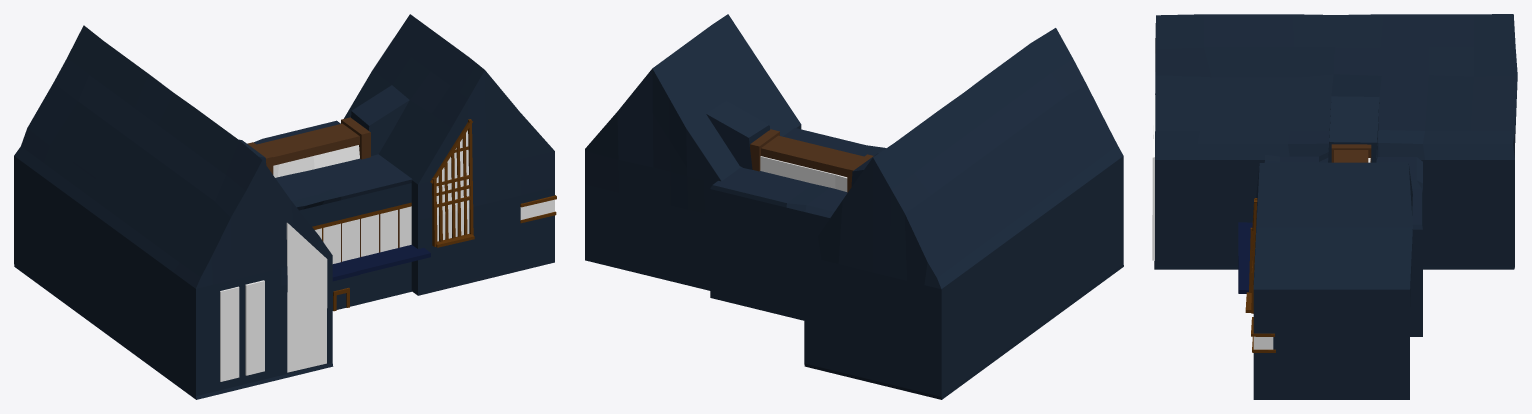
File: Building.fbx
3 renders of one model, left to right at view 1: azimuth 30°, elevation 25°; view 2: azimuth 150°, elevation 25°; view 3: azimuth 270°, elevation 25°, orthographic.
Visible parts, largest first — view 1: Cube.005; view 2: Cube.005; view 3: Cube.005.
Part boxes in pixels (x1,y1,x2,y2): Cube.005: (14,14,556,399); Cube.005: (585,14,1123,399); Cube.005: (1152,14,1517,399).
Bounding box in the file's own units: 599 × 314 × 467.
